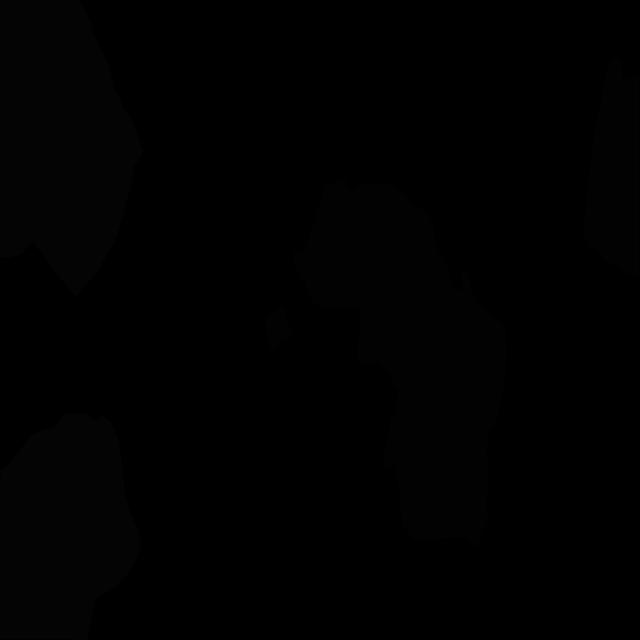cardboard: (293, 177, 506, 548), (582, 56, 639, 277), (264, 305, 294, 351)
soft_plastic: (0, 413, 141, 640)
